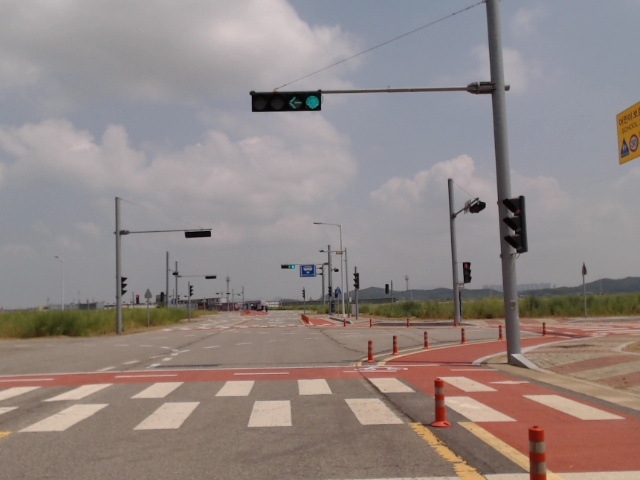all_green_4: (252, 93, 321, 111), (281, 264, 295, 269)
